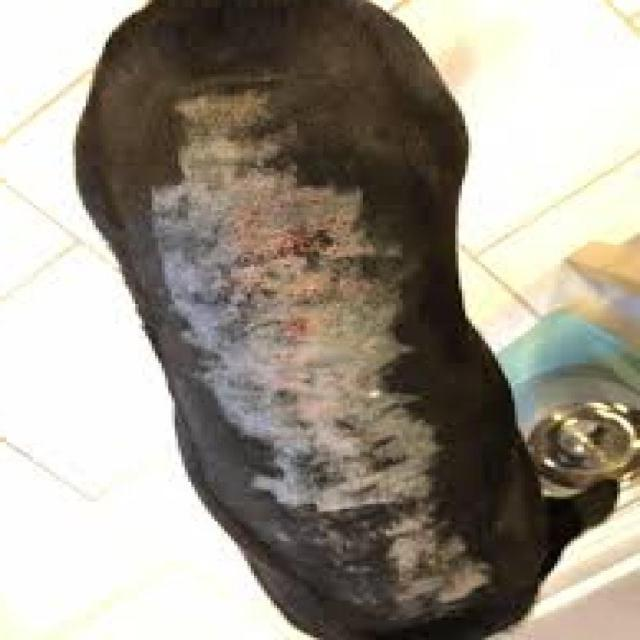allergic dermatitis: (175, 289, 446, 511), (163, 86, 395, 335), (392, 495, 488, 626)
